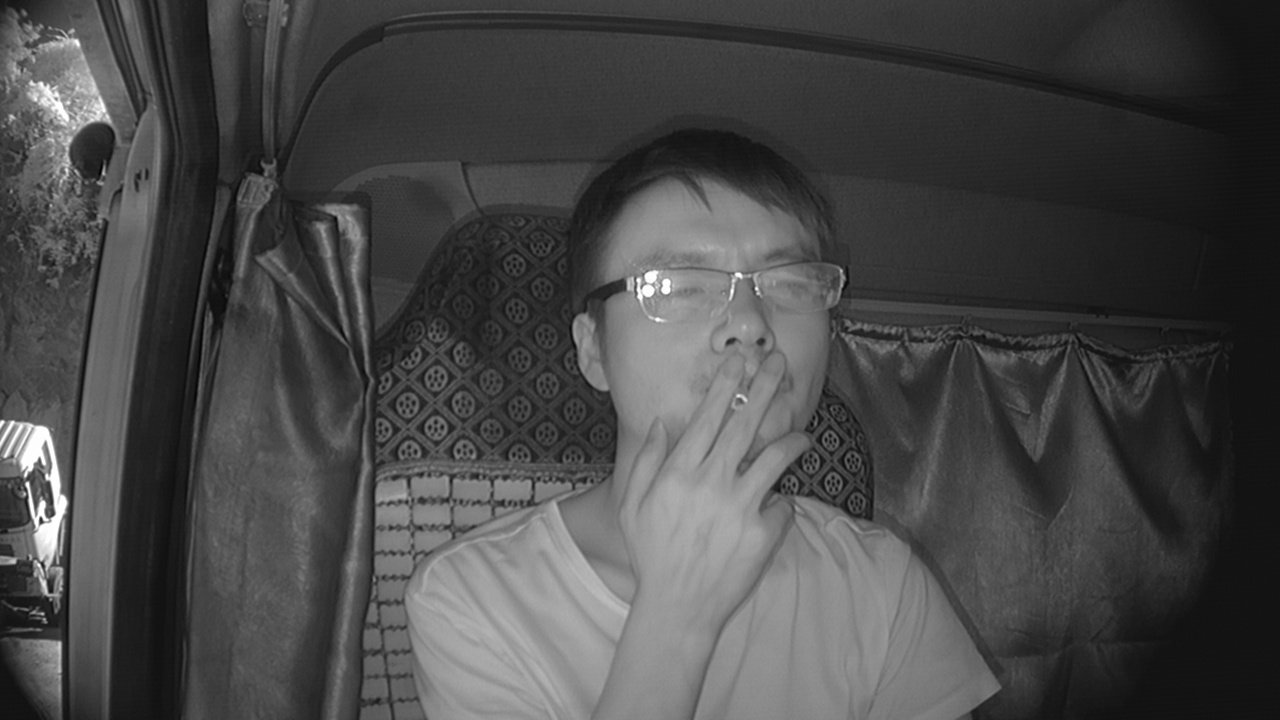hand: (647, 356, 820, 562)
